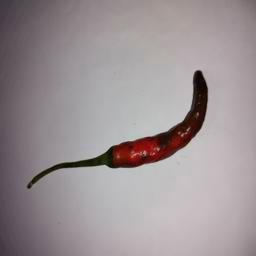Buah Cabai Sehat: (104, 68, 209, 169)
